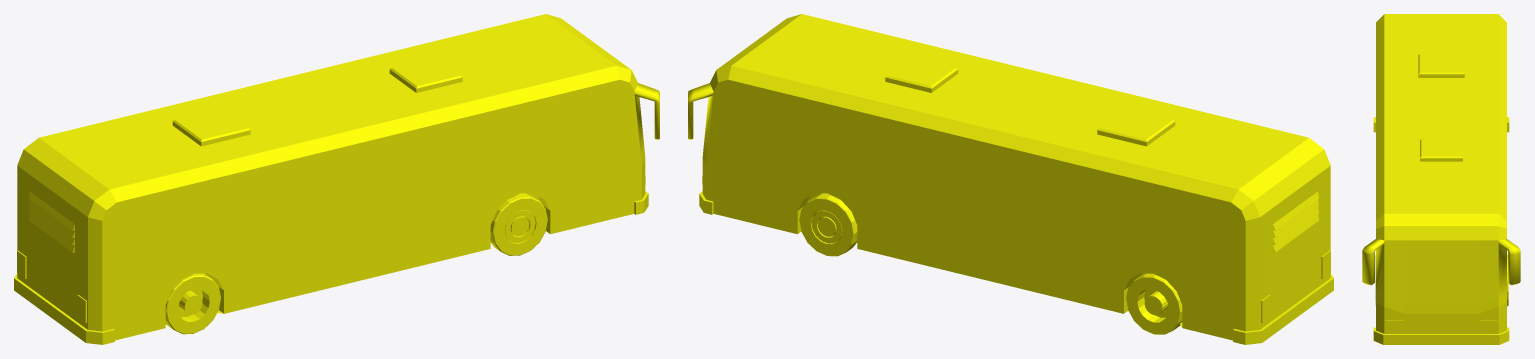
Rendered from bus.obj.
The picture shows the model from 3 angles, left to right: view 1: azimuth 30°, elevation 25°; view 2: azimuth 150°, elevation 25°; view 3: azimuth 270°, elevation 25°; orthographic projection. The views are drawn at different scales.
Parts seen in each view (by area): view 1: Bus; view 2: Bus; view 3: Bus.
Part boxes in pixels (left/top/right/bottom): Bus: left=14, top=14, right=659, bottom=344; Bus: left=688, top=14, right=1333, bottom=344; Bus: left=1362, top=14, right=1520, bottom=344.
Size of the model in its own units: 8.06 by 2.27 by 2.42.
